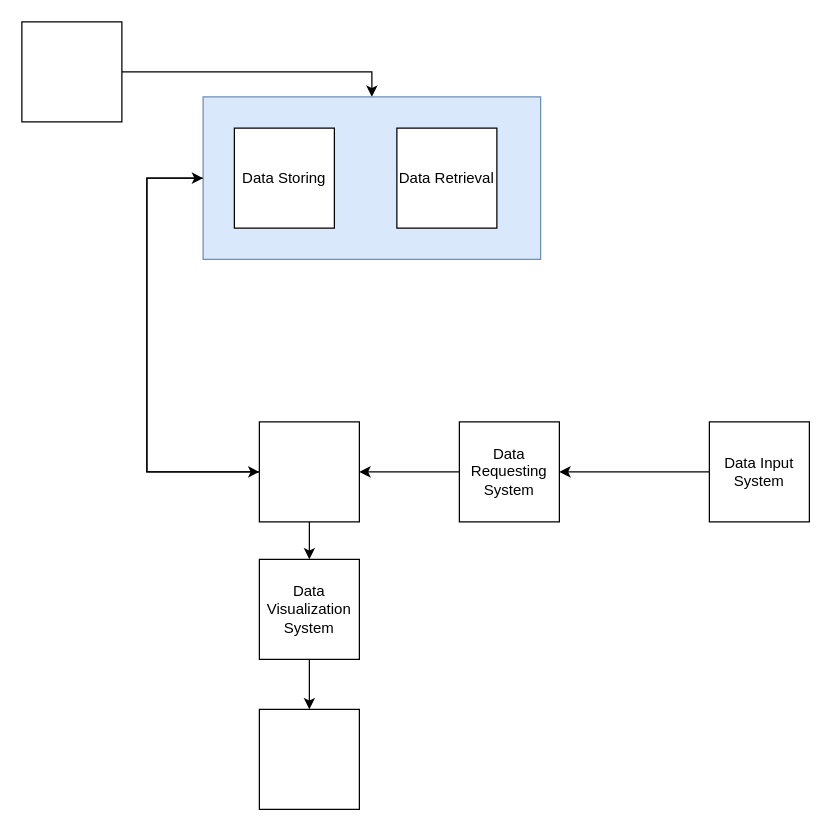
The diagram is 831 pixels wide and 831 high, and some of its shapes have lost their labels. Each missing label, with the box of its shape:
API Data Retrieval System: (21, 21, 122, 122)
Data Display System: (258, 708, 359, 809)
Data Response Handler: (258, 421, 359, 522)
